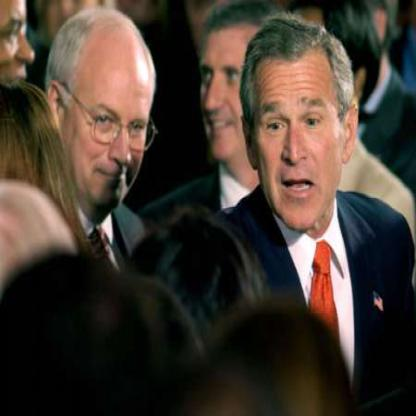face: (250, 23, 345, 233), (63, 24, 156, 215), (194, 2, 280, 168)
